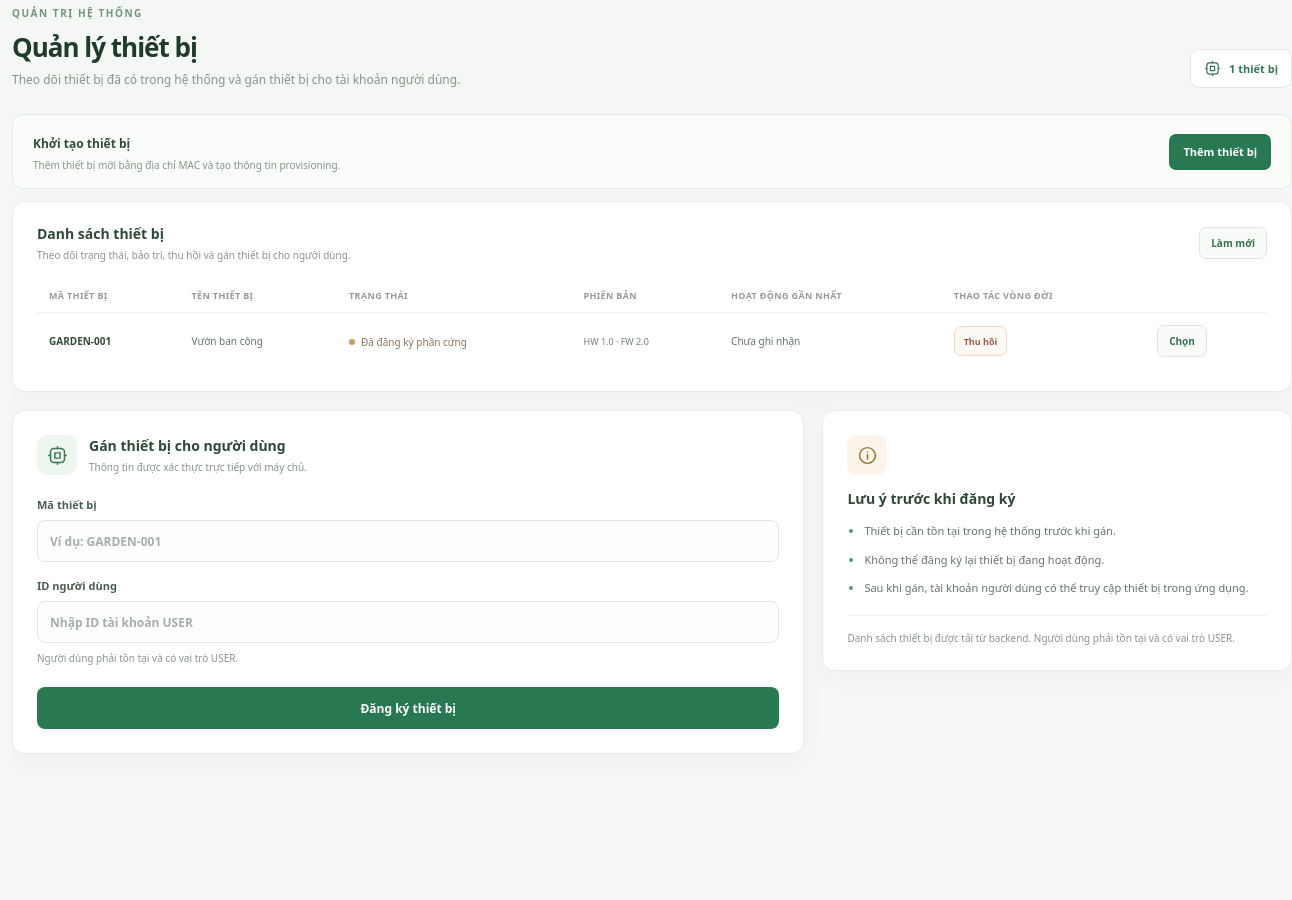
Test: registers a device for a user through the admin API
Expected: the text "Vườn ban công" is shown, x1=180 y1=312 x2=337 y2=369
Click the button "Chọn" at (1182, 341), box x1=1157 y1=325 x2=1207 y2=357
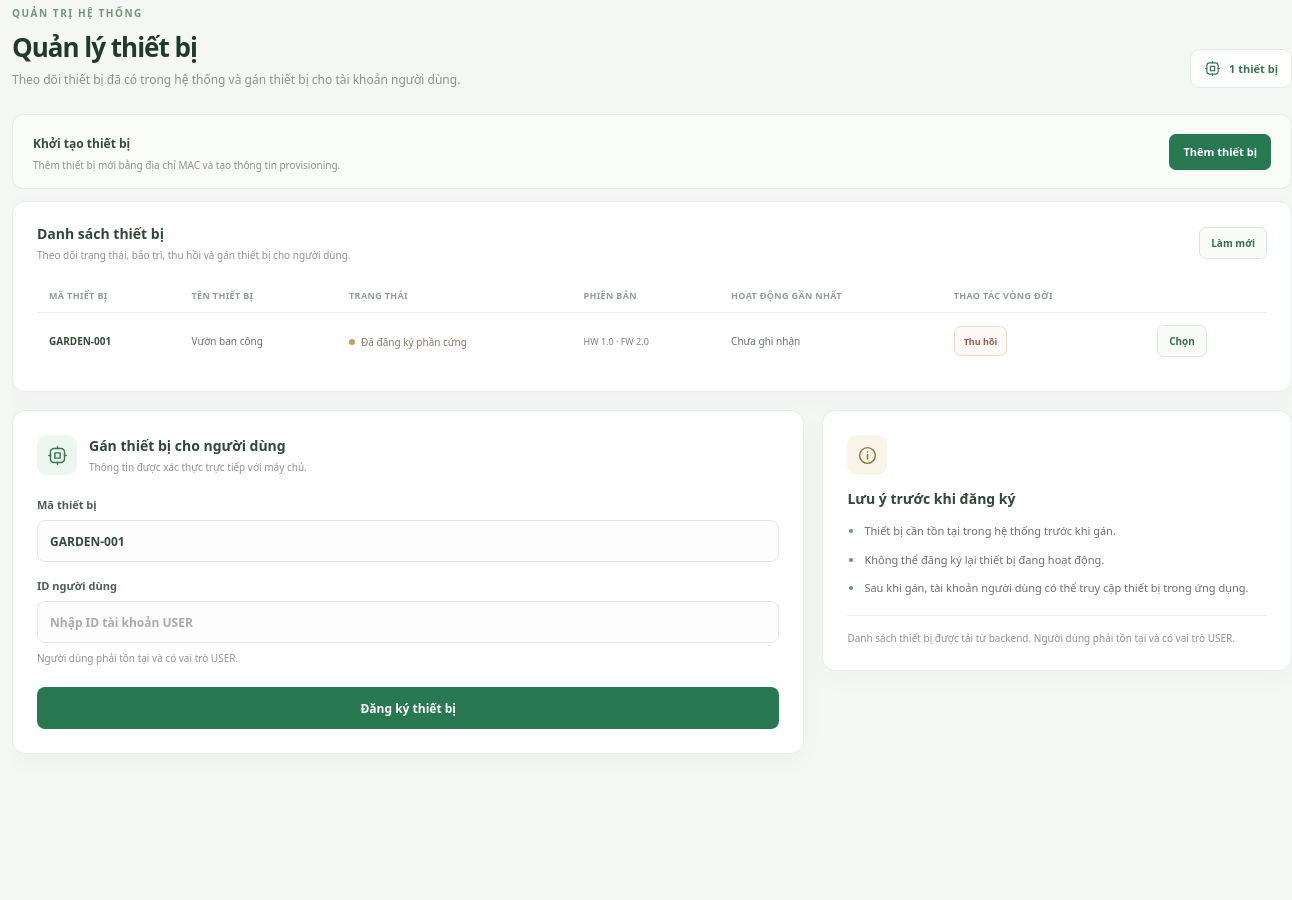
Now the field labelled "Mã thiết bị" holds "GARDEN-001", box x1=37 y1=520 x2=779 y2=562
Type "12" into the number field labelled "ID người dùng Người dùng phải tồn tại và có vai trò USER." at (408, 622), box x1=37 y1=601 x2=779 y2=643
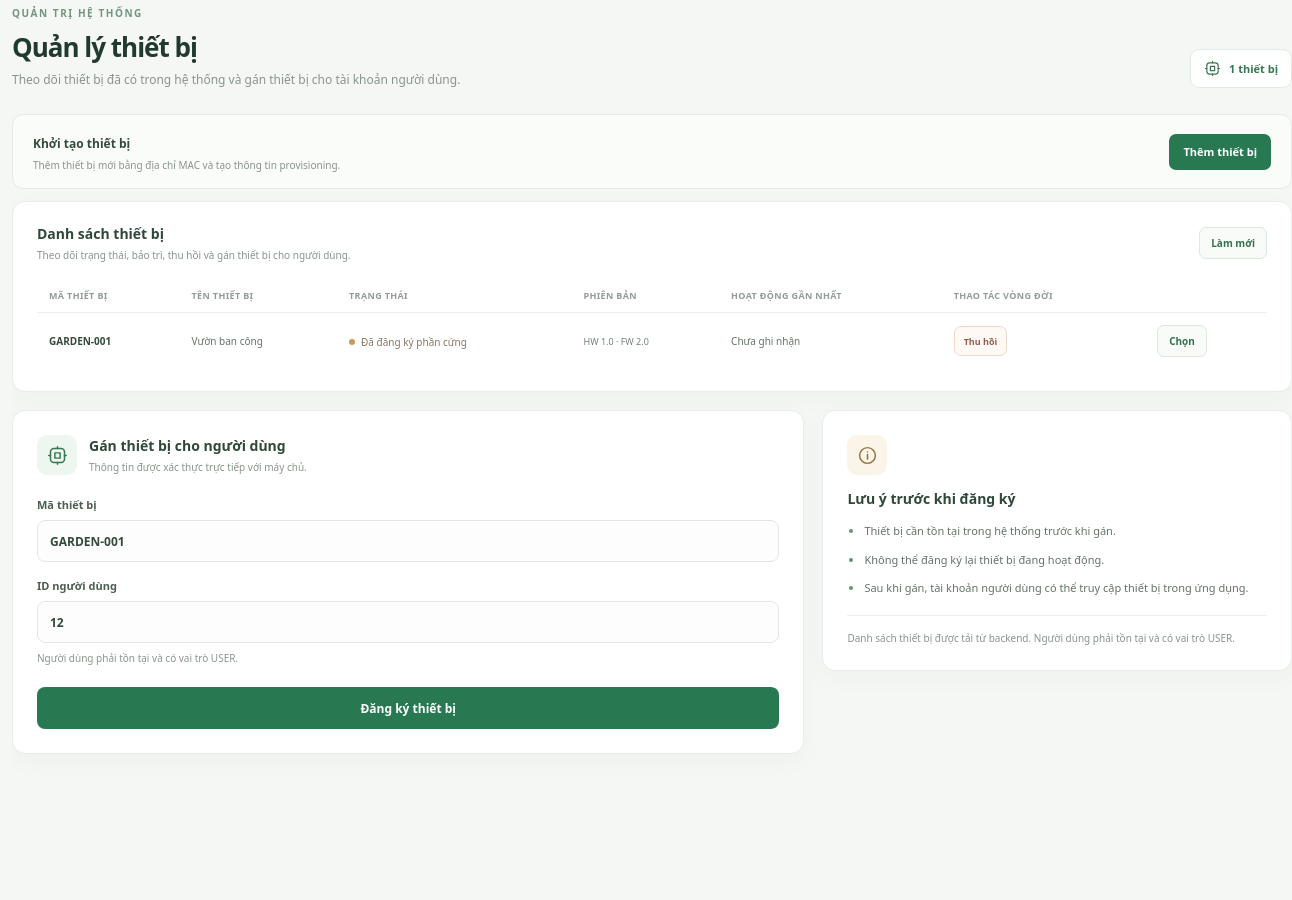
Click the button "Đăng ký thiết bị" at (408, 708), box x1=37 y1=687 x2=779 y2=729
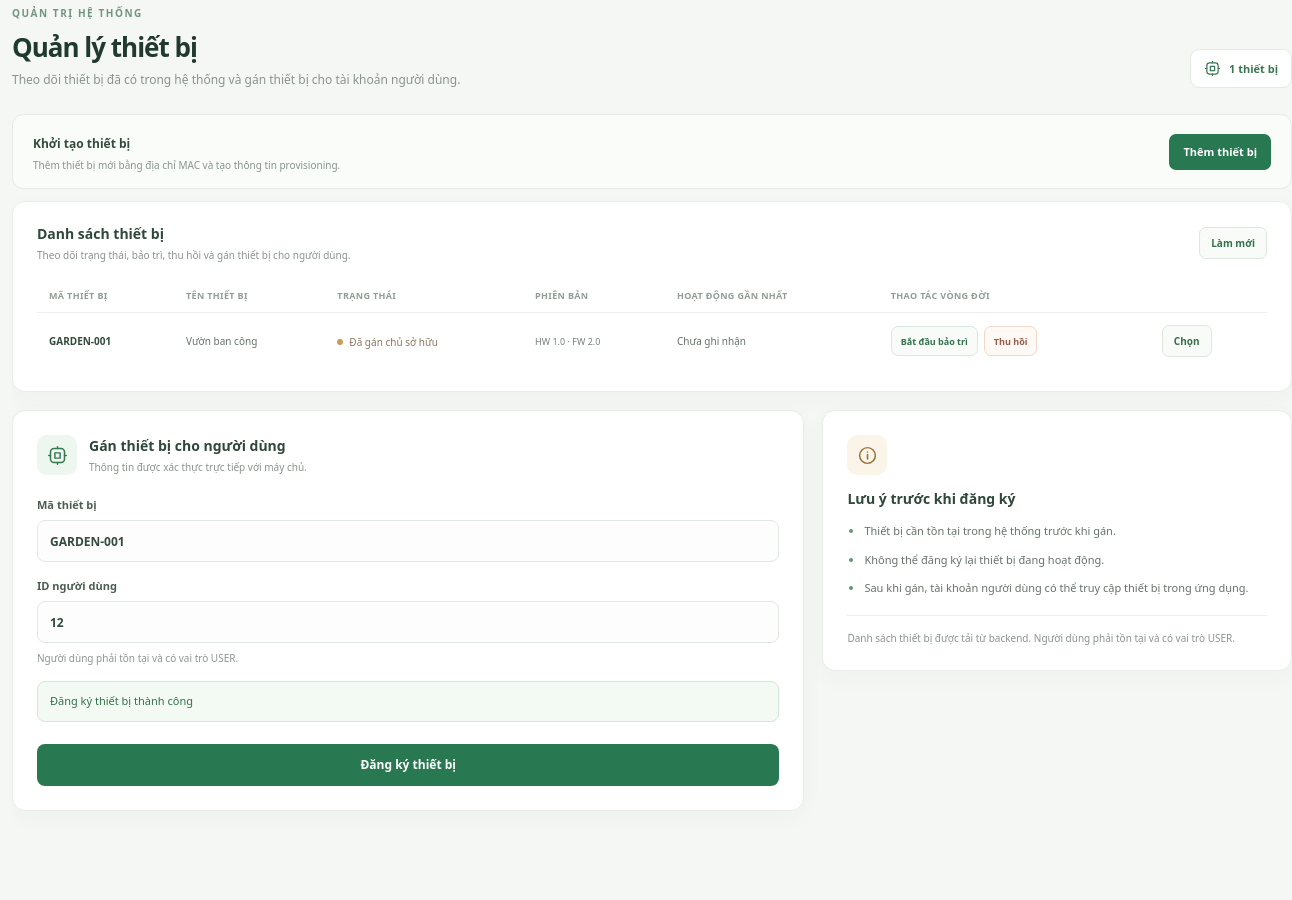
Now the message reads "Đăng ký thiết bị thành công", box x1=50 y1=693 x2=193 y2=708
Now the text "Đã gán chủ sở hữu" is shown, box x1=337 y1=334 x2=438 y2=348
